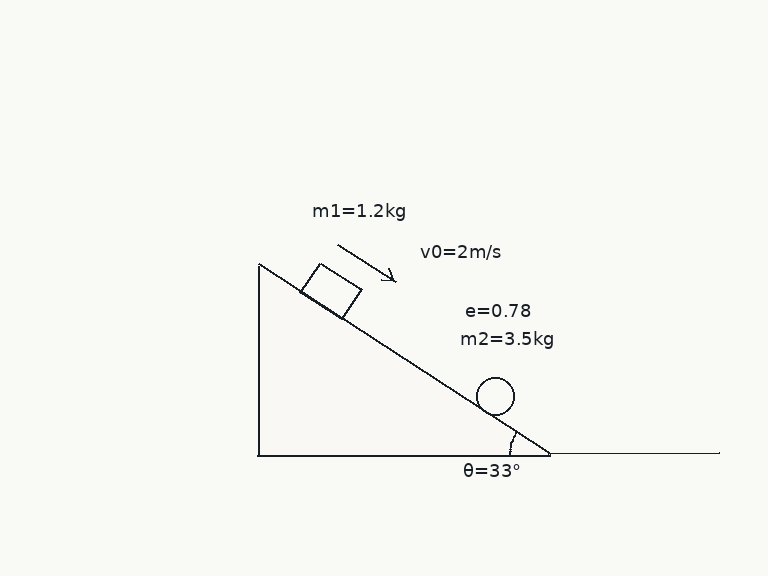ball: (474, 375, 516, 417)
block: (299, 260, 363, 321)
ramp: (256, 262, 552, 456)
